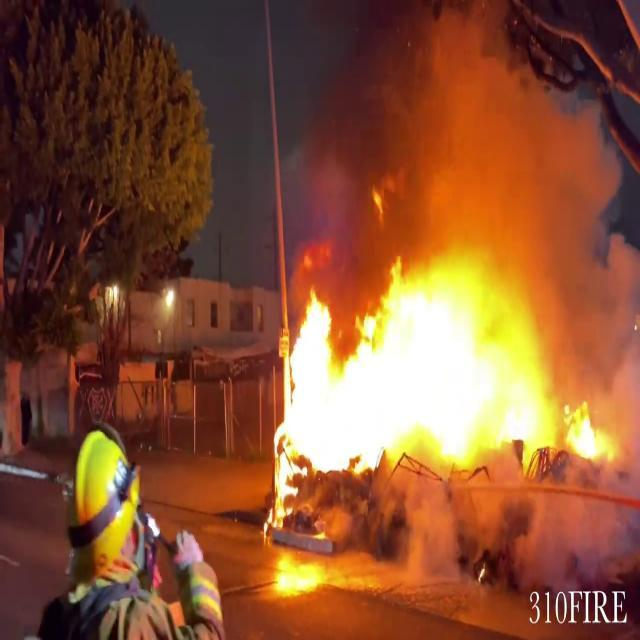Fire: (268, 197, 620, 498)
Smoke: (280, 0, 626, 282)
